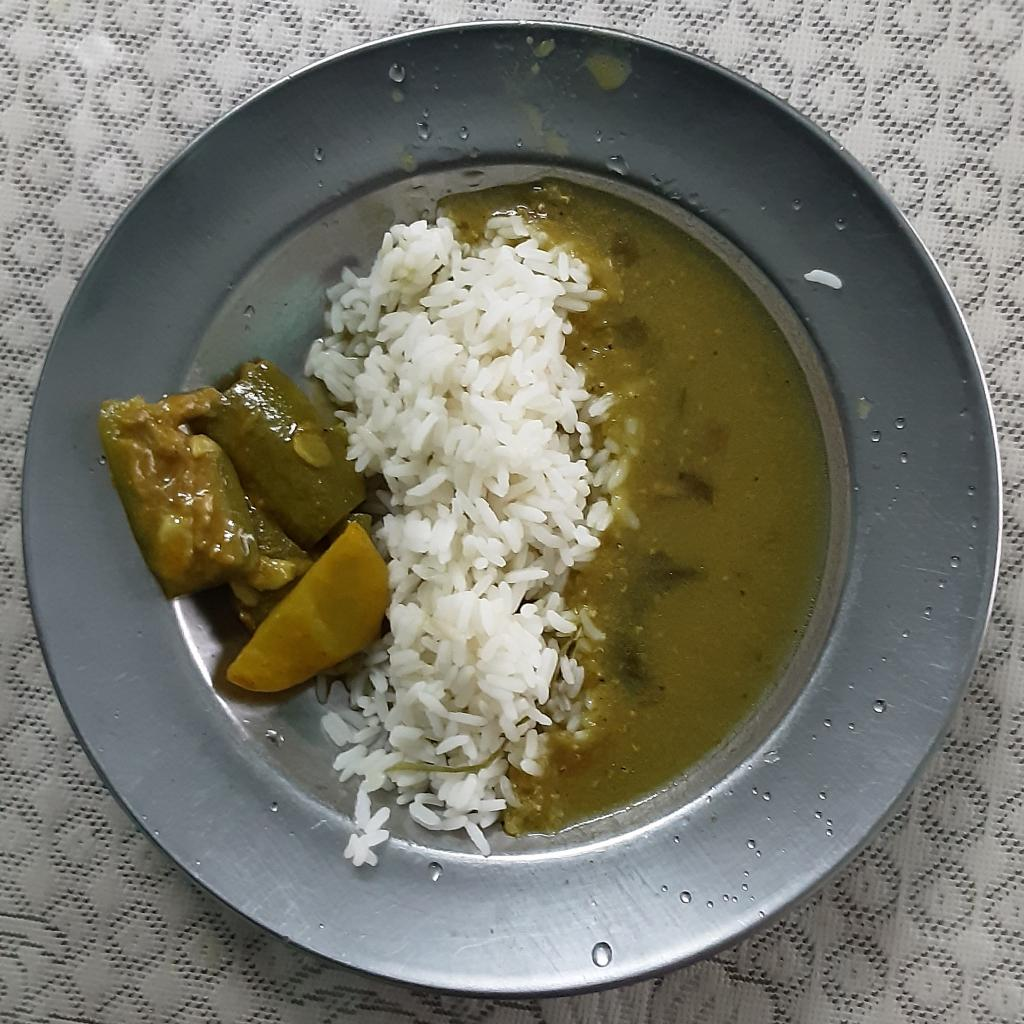chichinga-vaji: (99, 358, 385, 626)
daal: (440, 179, 834, 838)
potato: (223, 517, 391, 694)
rice: (305, 217, 644, 870), (806, 267, 848, 294)
